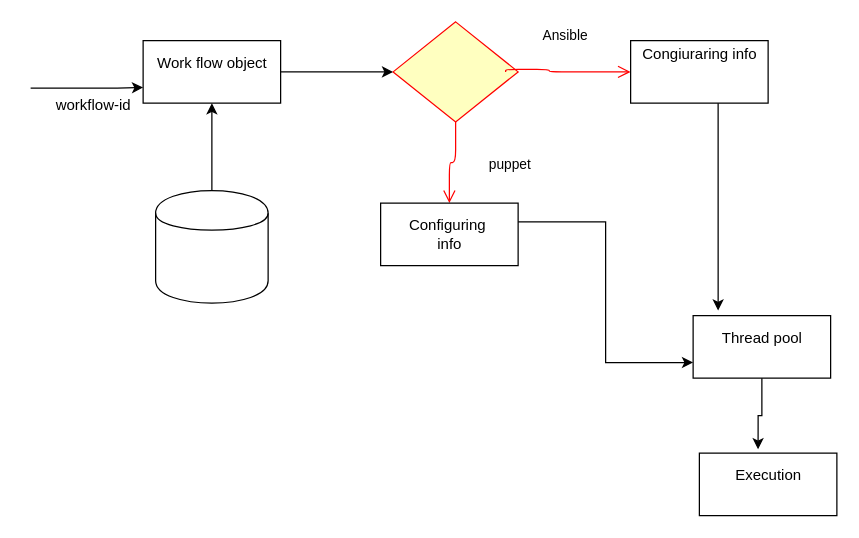
Some shapes in this 859 by 538 pixel diagram are drawn without their labels. The centre of each missing label's shape, as x and y in pixels:
"Neo4j database" goes at (211,246).
"workflow type" goes at (455,71).
